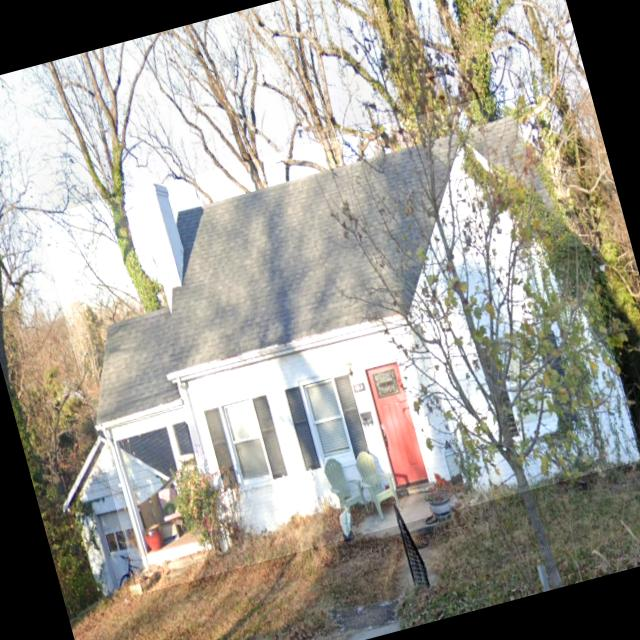House: (38, 81, 640, 594)
